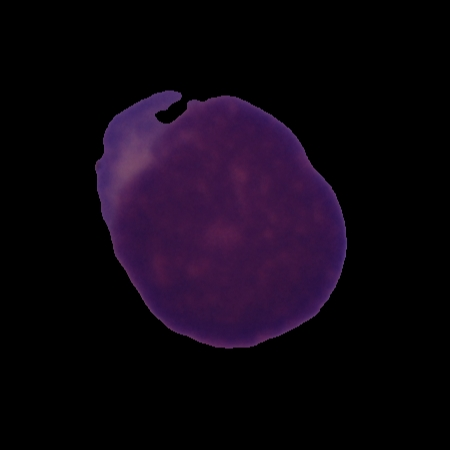ALL: (91, 85, 351, 352)
